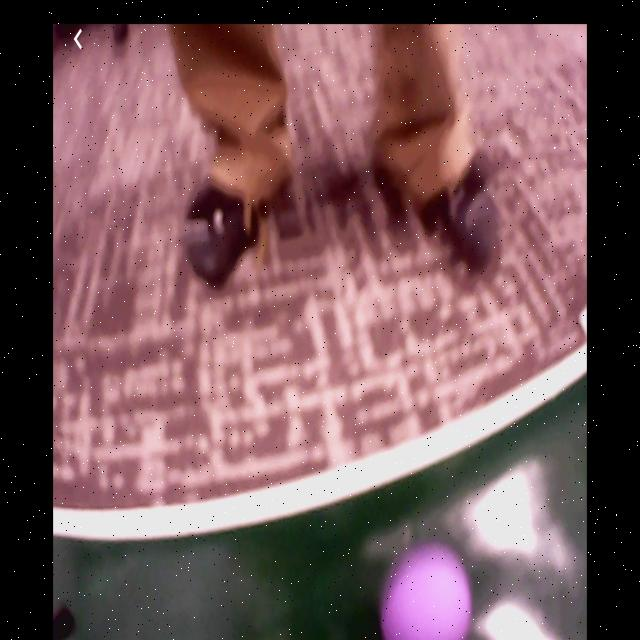ball: (383, 546, 470, 640)
